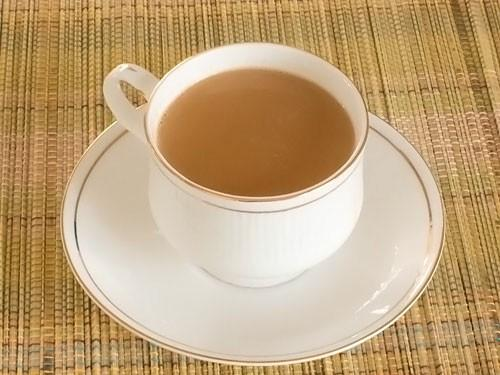Chai: (160, 68, 359, 199)
